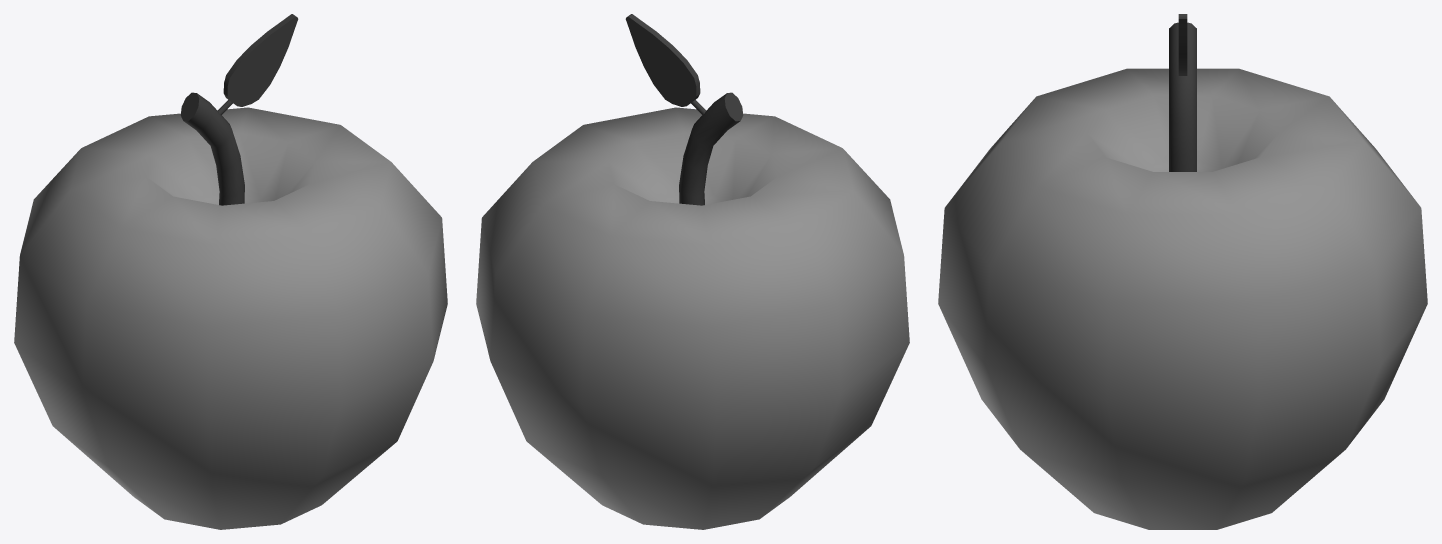
Rendered from AppleModel.fbx.
3 renders of one model, left to right at view 1: azimuth 30°, elevation 25°; view 2: azimuth 150°, elevation 25°; view 3: azimuth 270°, elevation 25°, orthographic. The views are drawn at different scales.
Parts seen in each view (by area): view 1: AppleModel; view 2: AppleModel; view 3: AppleModel.
Boxes of the visible parts, x1,y1,x2,y2 form: AppleModel: (14, 14, 447, 529); AppleModel: (476, 14, 909, 529); AppleModel: (938, 14, 1427, 529).
Size of the model in its own units: 13.76 by 17.32 by 14.47.
